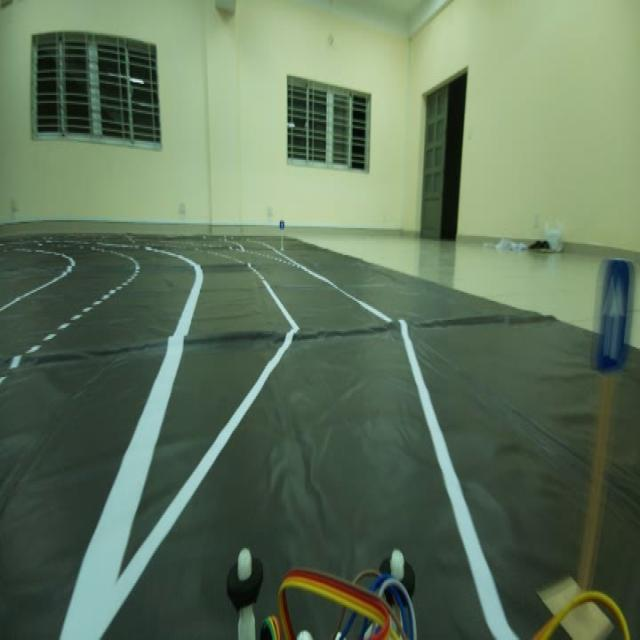onewayroad: (590, 250, 636, 386)
